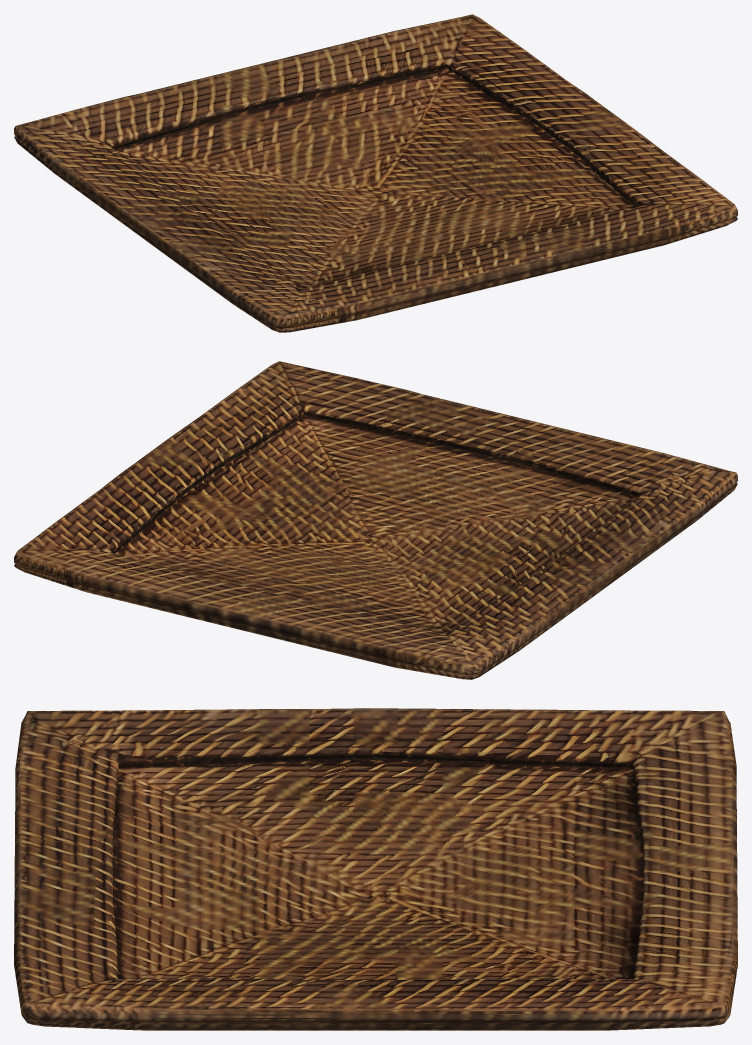
The model's file is SQUARE_RATTAN_CHARGER_Plate_1InchTall_Tabletop_0222030725_texture.glb.
3 renders of one model, top to bottom at view 1: azimuth 30°, elevation 25°; view 2: azimuth 150°, elevation 25°; view 3: azimuth 270°, elevation 25°, orthographic. The views are drawn at different scales.
Parts seen in each view (by area): view 1: Mesh_0.001; view 2: Mesh_0.001; view 3: Mesh_0.001.
Part boxes in pixels (box(x1,y1,x2,y2)): Mesh_0.001: box(14, 14, 737, 332); Mesh_0.001: box(14, 361, 737, 679); Mesh_0.001: box(14, 708, 737, 1030).
Bounding box in the file's own units: 0.3469 × 0.0254 × 0.3505.
1 material, 1 textured.
